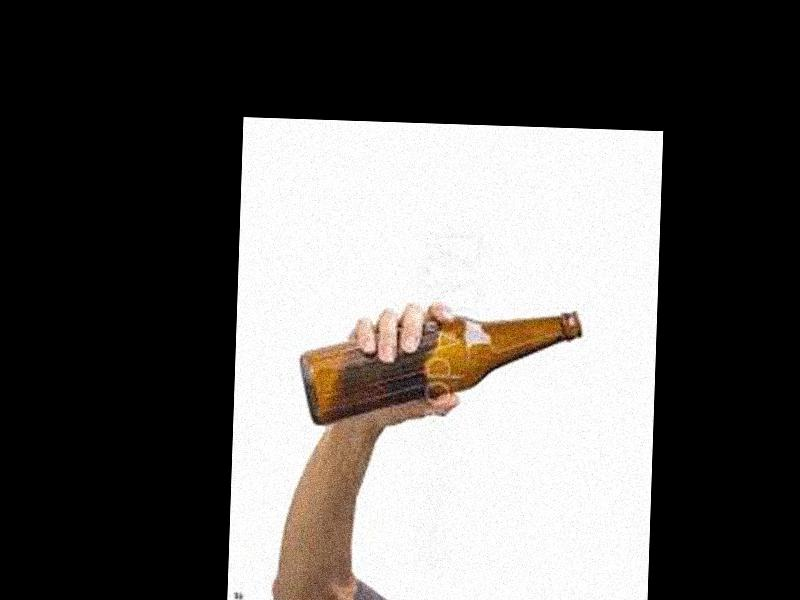Beer: (297, 300, 583, 434)
